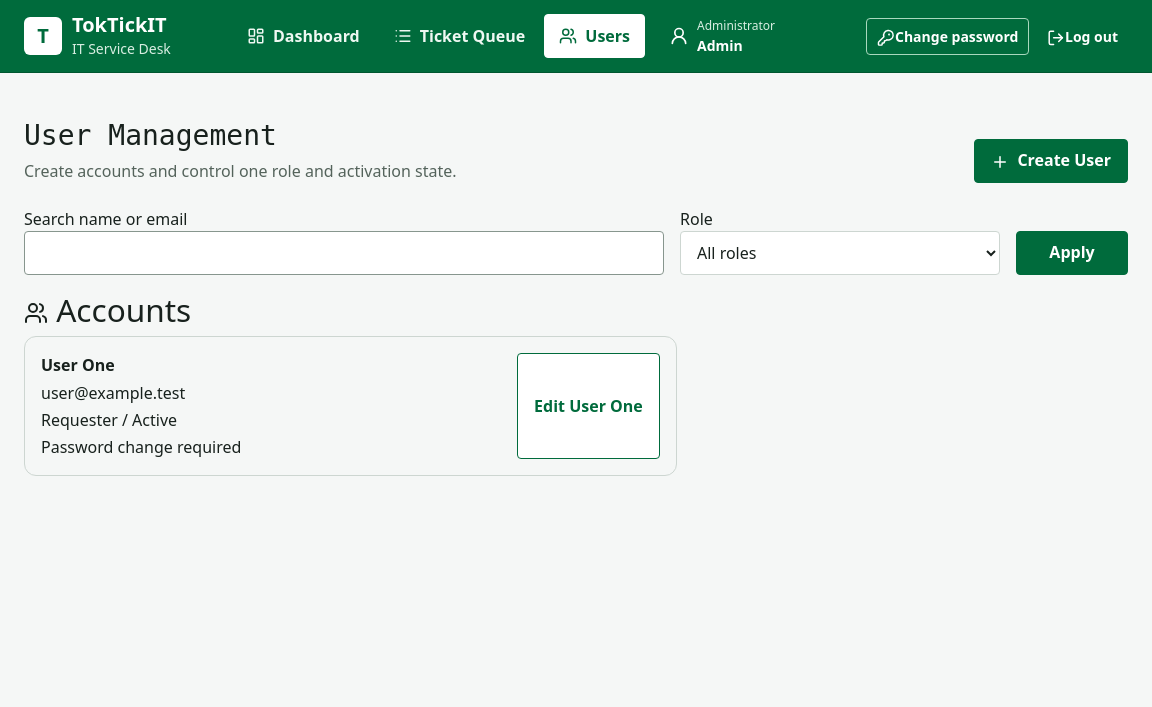
User Management › lists, filters and opens an account editor
This screenshot has width=1152, height=707.
Expected: the text "user@example.test" is shown, [41,382,185,404]
Type "user" into the field labelled "Search name or email" at (344, 253), box [24,231,664,275]
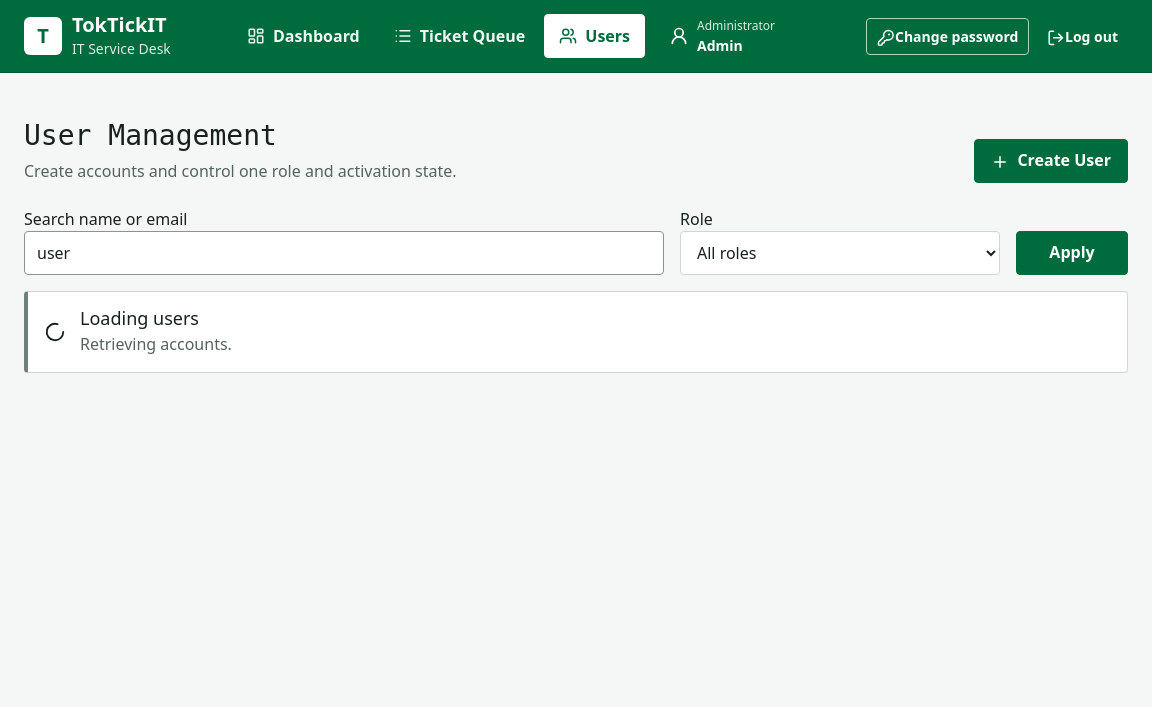
Click the button "Apply" at (1072, 253), box [1016,231,1128,275]
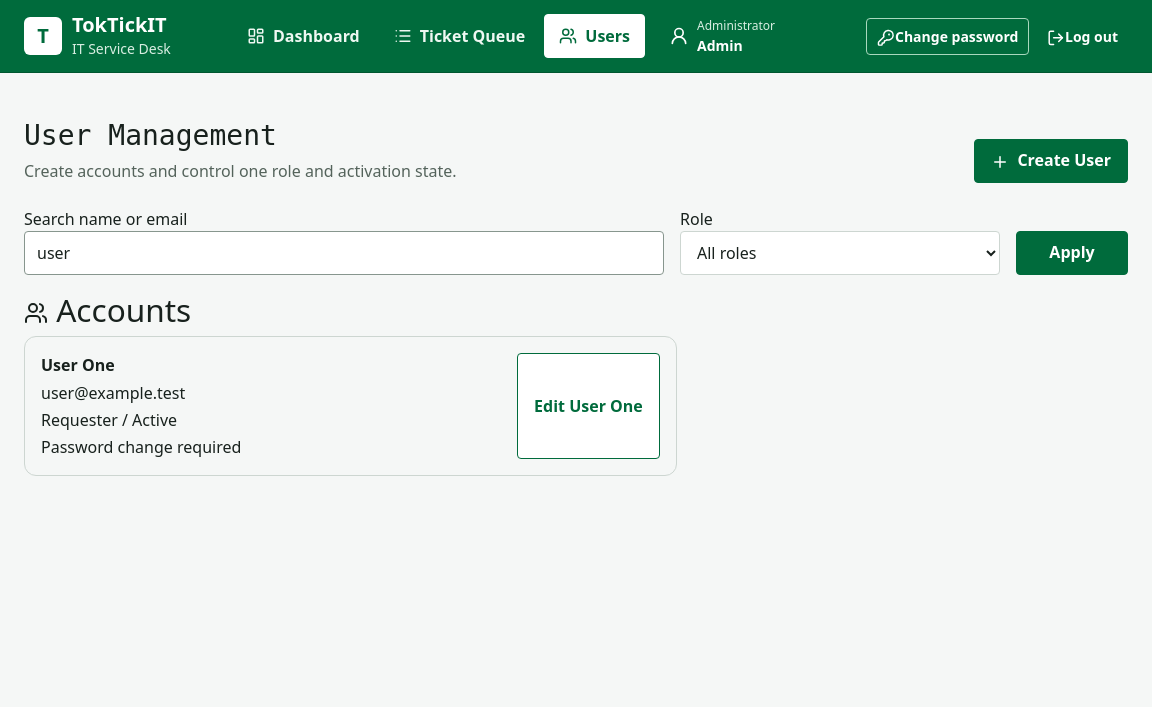
Click the button "Edit User One" at (588, 406), box [517,354,660,459]
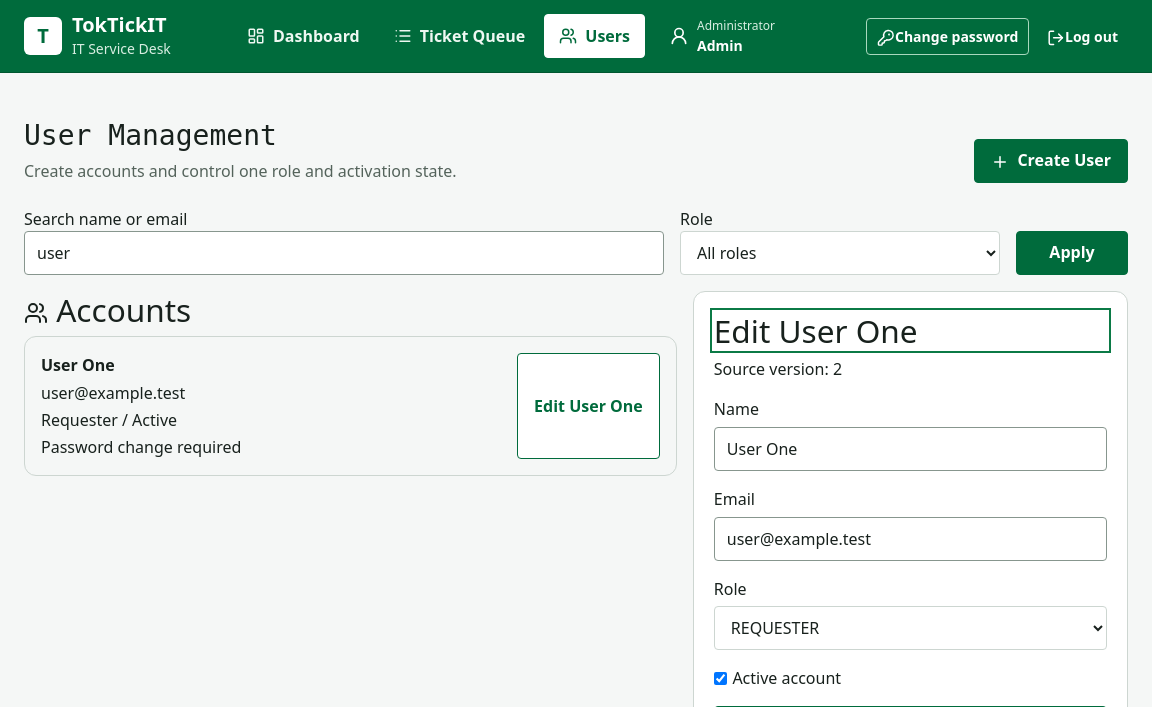
Expected: the field showing "user@example.test" is shown, [714,517,1107,561]
